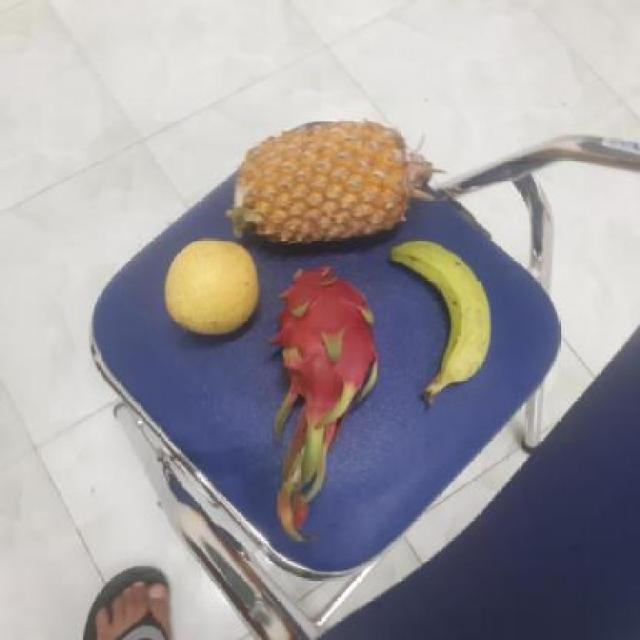banana: (389, 238, 493, 384)
dragon fruit: (260, 264, 378, 414)
pear: (157, 240, 260, 338)
pineapple: (228, 120, 422, 252)
